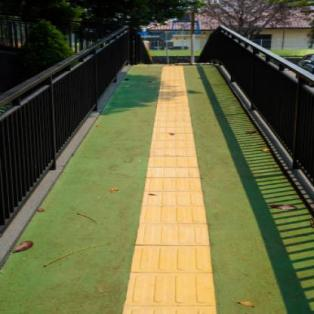Podoctatil: (123, 66, 216, 313)
